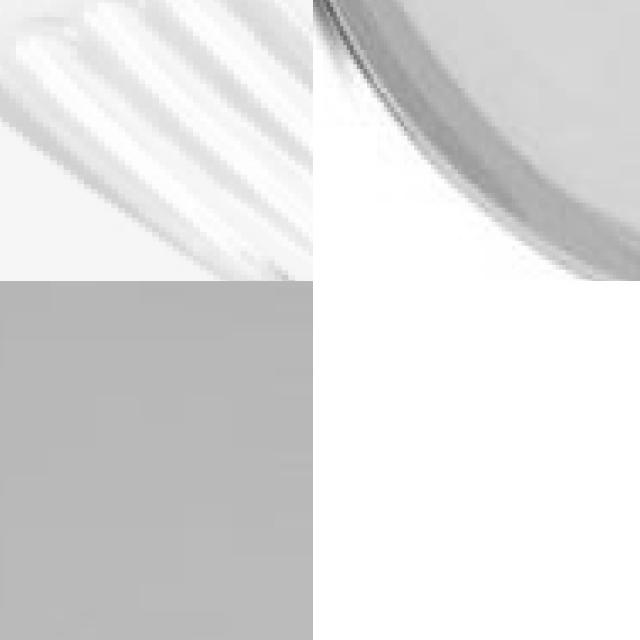forks: (0, 0, 313, 281)
spoons: (313, 0, 640, 262)
